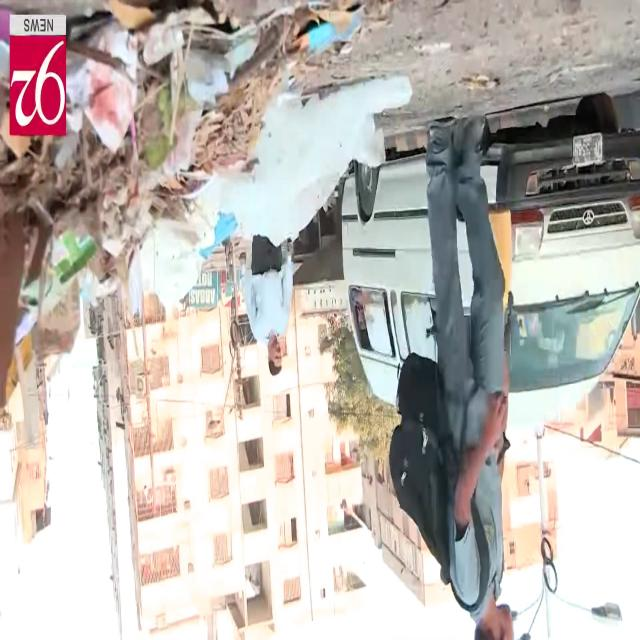high trash: (0, 2, 411, 409)
less trash: (460, 73, 500, 91), (412, 40, 451, 56)
